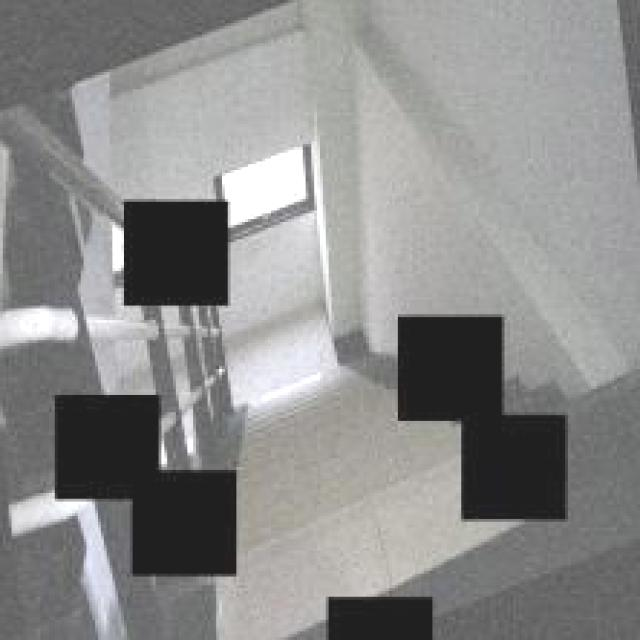downstair: (240, 341, 390, 581)
